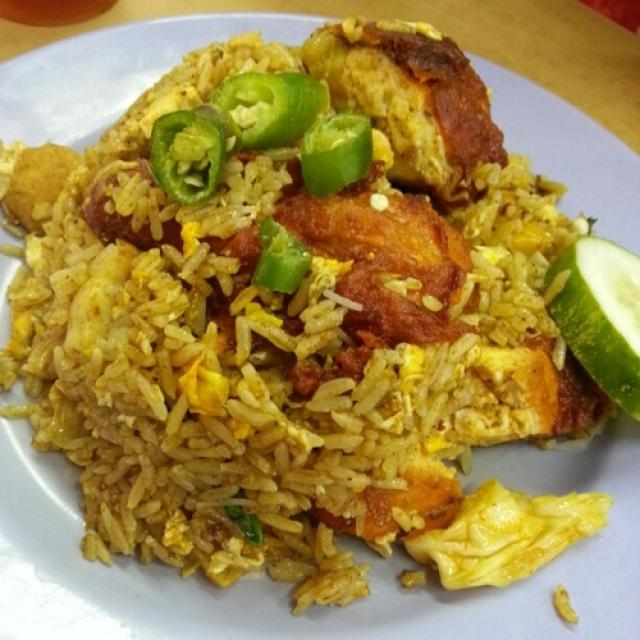米饭主食: (23, 32, 609, 594)
